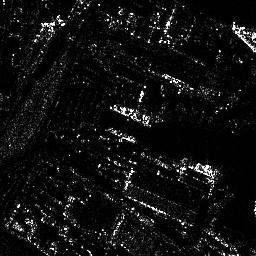ship: (108, 100, 154, 127), (105, 124, 137, 143)
